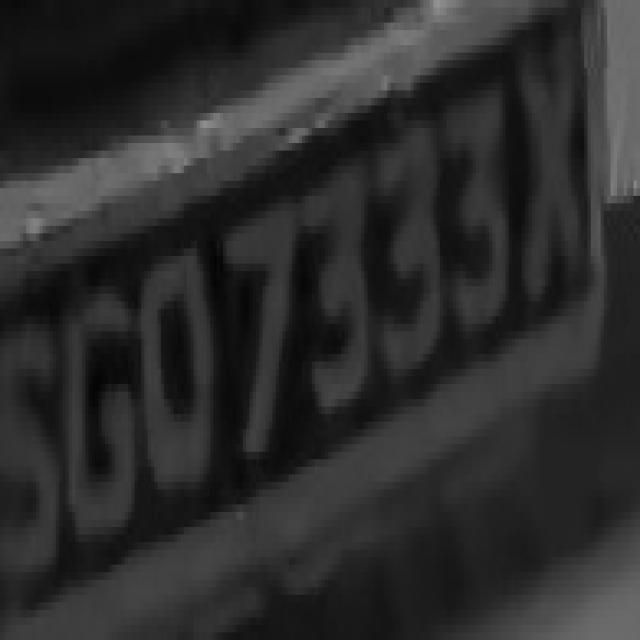3: (420, 53, 522, 369), (351, 90, 450, 392), (282, 143, 374, 452)
7: (207, 166, 302, 497)
G: (56, 248, 141, 572)
Q: (125, 211, 226, 542)
S: (10, 286, 66, 618)
X: (499, 8, 600, 316)
